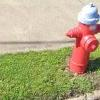a fire hydrant: (66, 7, 98, 74)
